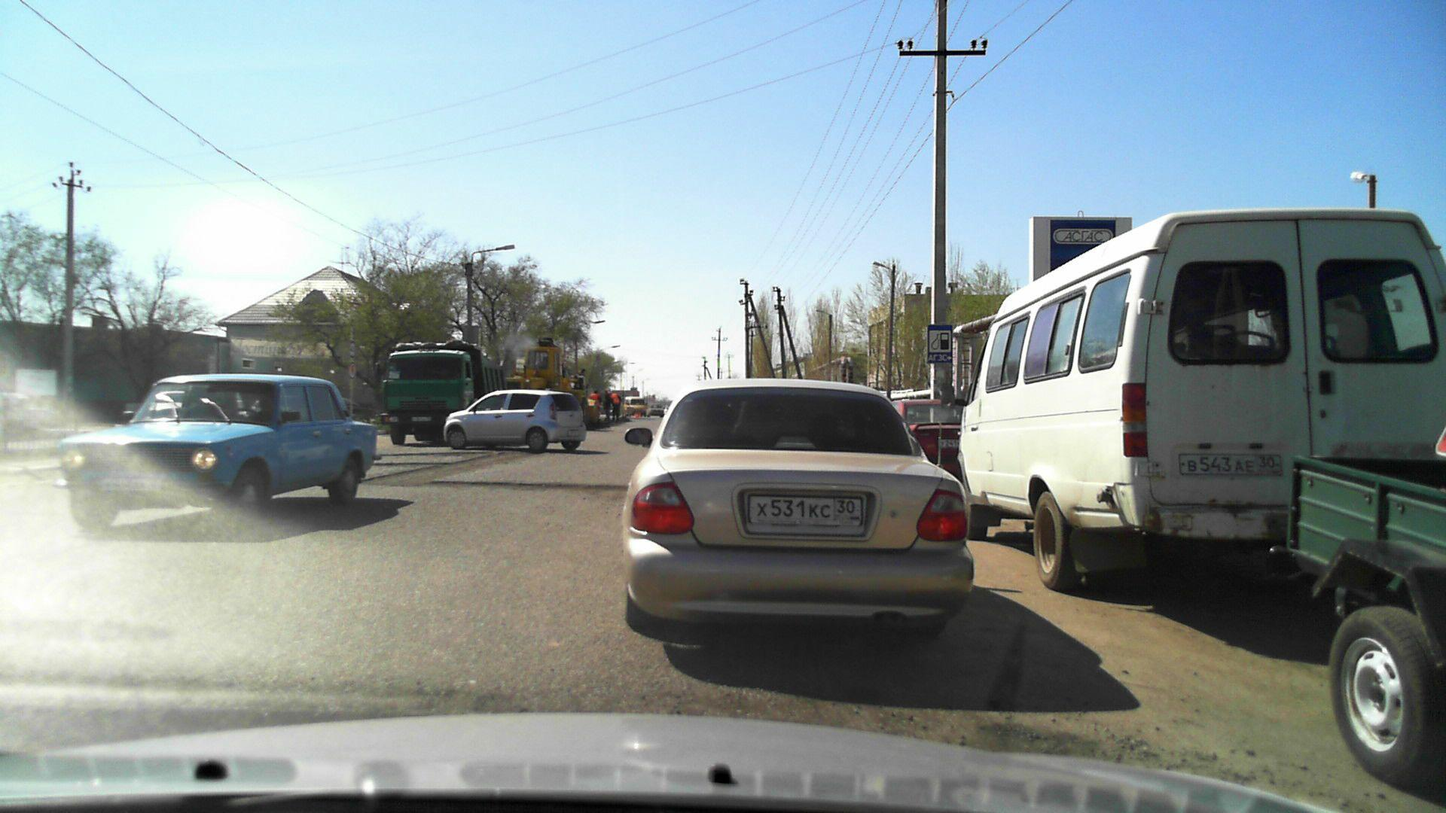road_sign: (927, 324, 954, 363)
